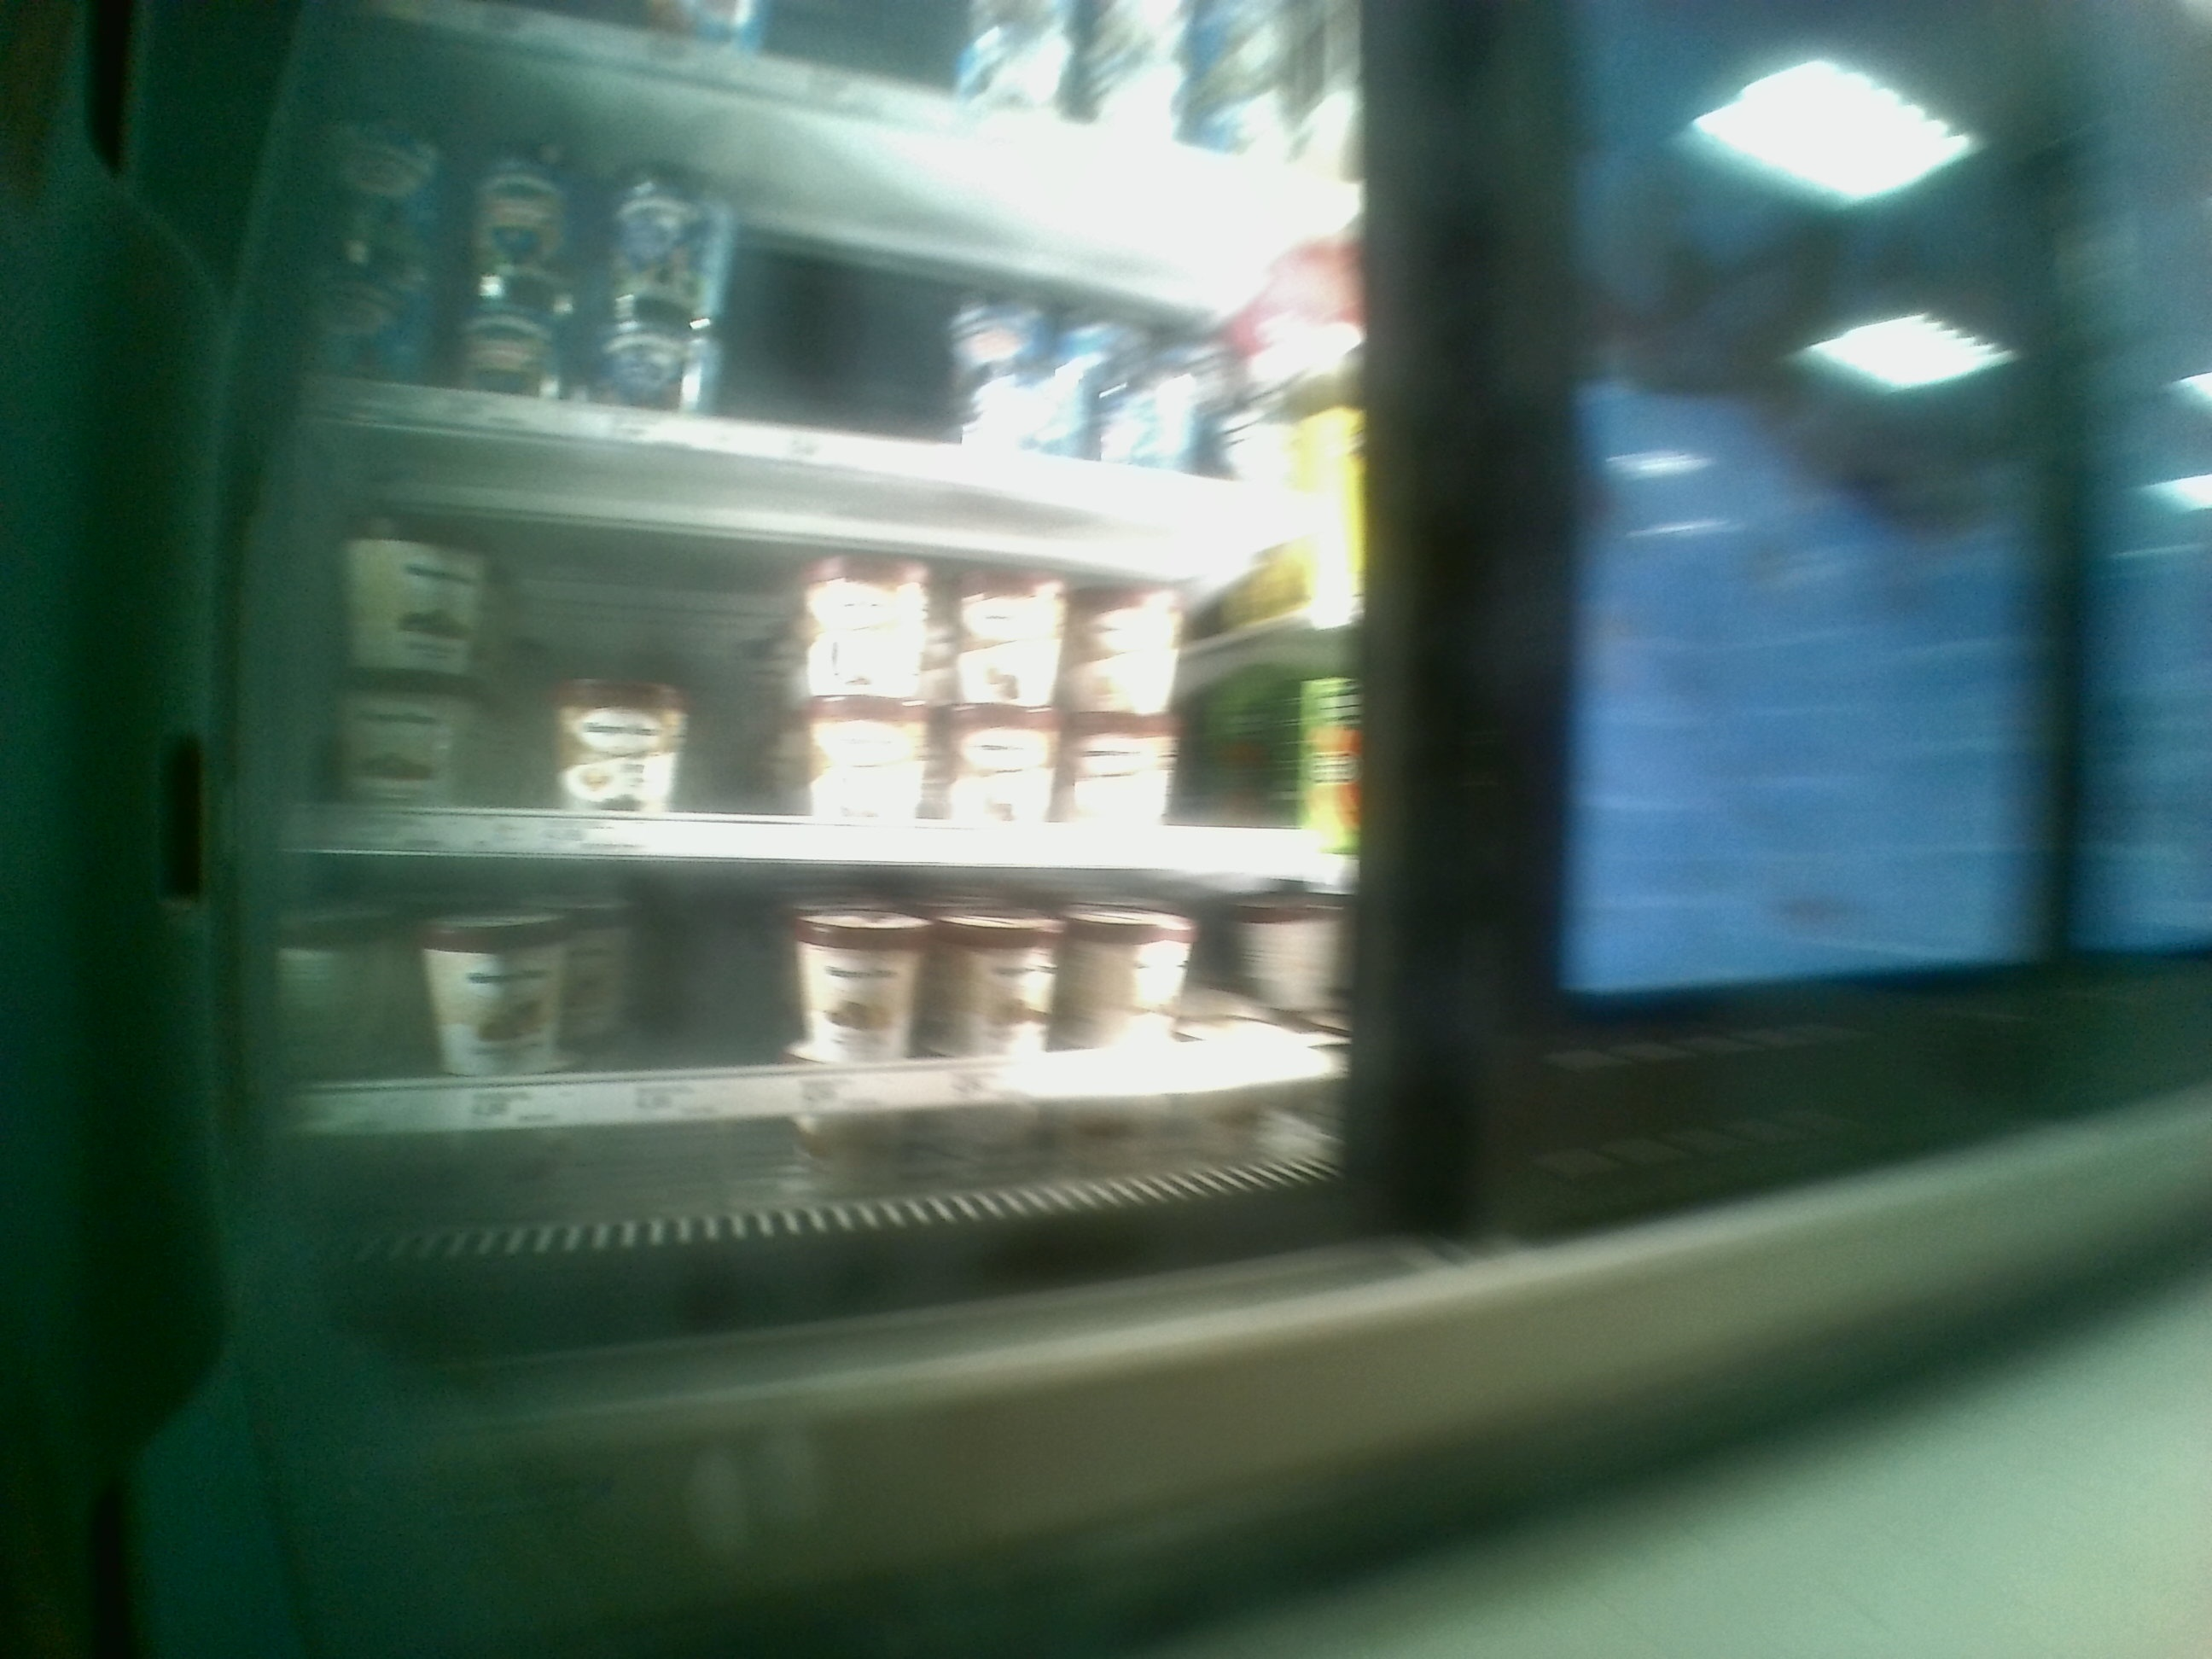shelf: (289, 410, 1379, 854), (284, 849, 1383, 1206)
